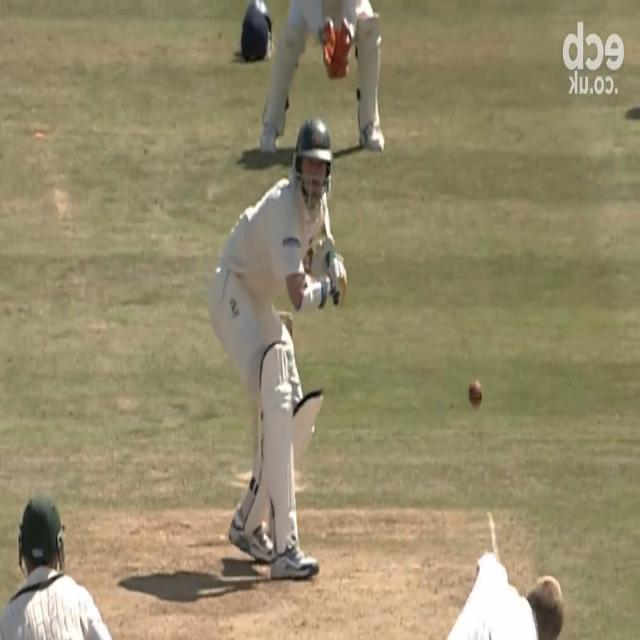ball: (466, 377, 485, 412)
